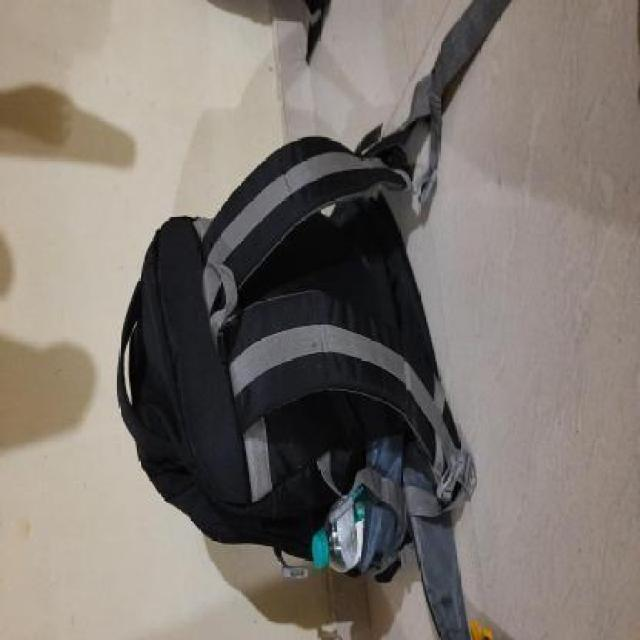backpack: (109, 118, 483, 592)
